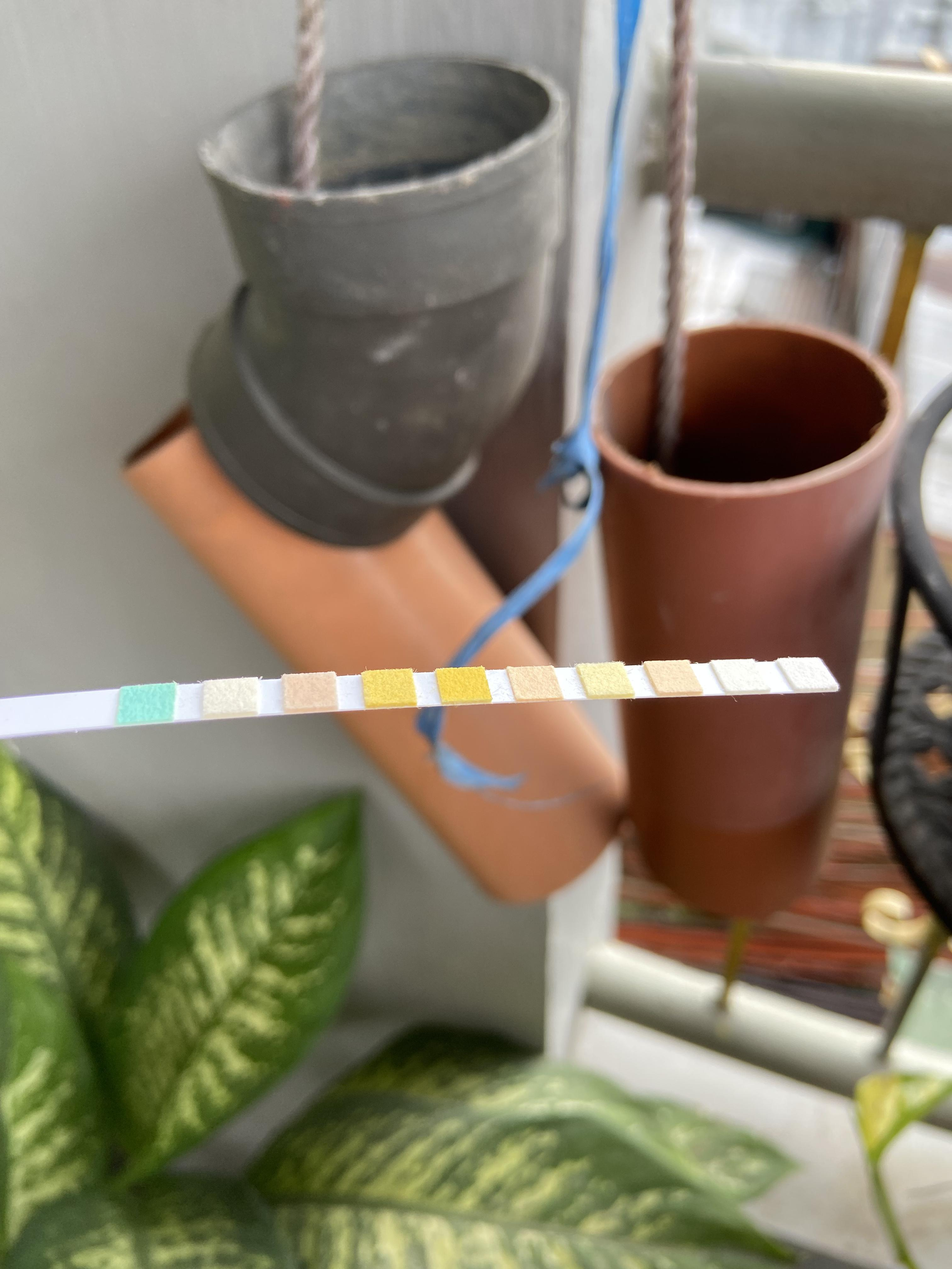Bilirubin: (207, 680, 255, 711)
Blood: (445, 669, 482, 700)
Glucose: (124, 688, 170, 721)
Ketone: (284, 675, 335, 706)
Leukocytes: (798, 658, 821, 686)
Nitrite: (729, 660, 753, 690)
Protein: (590, 665, 623, 693)
SpGravity: (368, 673, 415, 702)
Urobilinogen: (658, 662, 690, 691)
pH: (519, 668, 555, 698)
strip: (1, 658, 844, 739)
